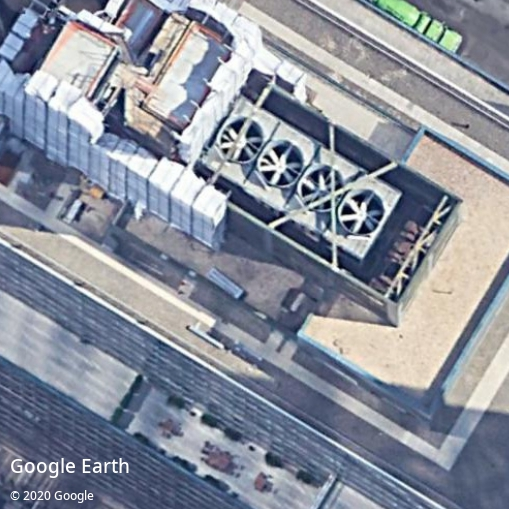Vent: (219, 118, 263, 162), (301, 169, 344, 212), (260, 144, 302, 187), (340, 193, 383, 234)
